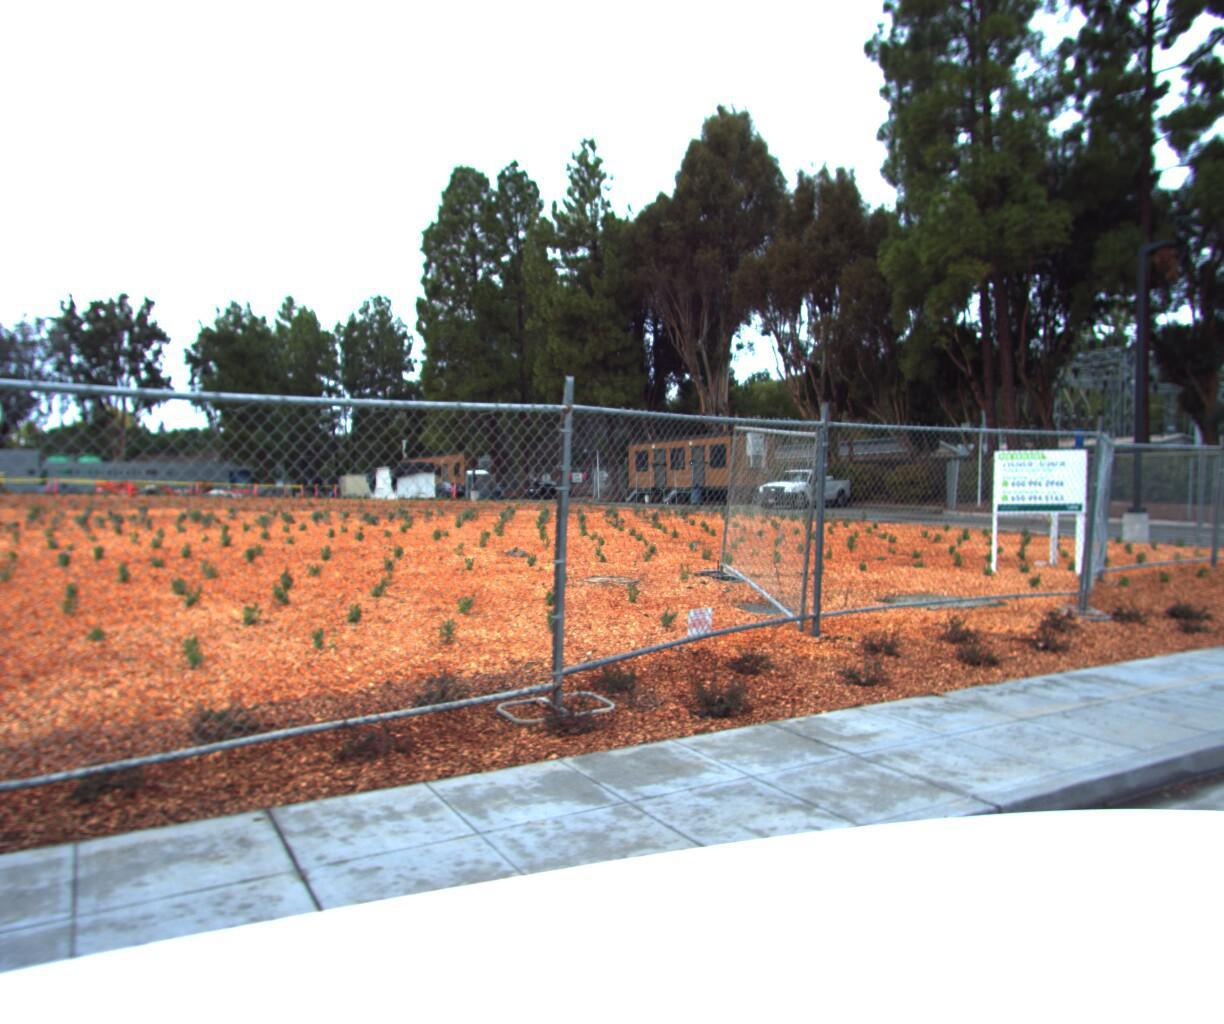car: (752, 468, 852, 514)
